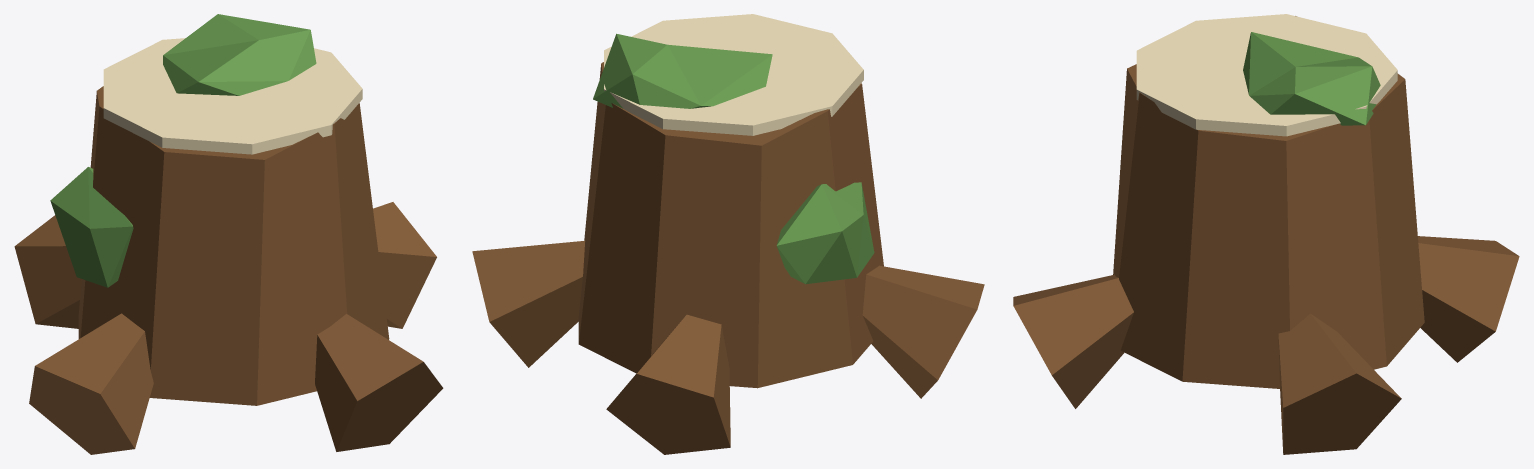
The model's file is sm_env_forest_mossy_stump.glb.
3 views of the same model, side by side, from view 1: azimuth 30°, elevation 25°; view 2: azimuth 150°, elevation 25°; view 3: azimuth 270°, elevation 25° (orthographic).
Parts seen in each view (by area): view 1: Stump, StumpTop, StumpRoot.002, StumpRoot.003, StumpMoss, StumpMoss.001, StumpRoot.001, StumpRoot; view 2: Stump, StumpTop, StumpRoot.001, StumpRoot.002, StumpRoot, StumpMoss, StumpMoss.001; view 3: Stump, StumpTop, StumpRoot, StumpRoot.003, StumpRoot.001, StumpMoss.
Boxes of the visible parts, left/top/right/bottom form: Stump: left=78, top=86, right=389, bottom=405; StumpTop: left=103, top=38, right=362, bottom=154; StumpRoot.002: left=29, top=313, right=153, bottom=454; StumpRoot.003: left=315, top=314, right=443, bottom=451; StumpMoss: left=163, top=14, right=316, bottom=95; StumpMoss.001: left=50, top=167, right=133, bottom=287; StumpRoot.001: left=14, top=215, right=81, bottom=328; StumpRoot: left=373, top=202, right=436, bottom=328; Stump: left=578, top=62, right=883, bottom=388; StumpTop: left=604, top=14, right=863, bottom=135; StumpRoot.001: left=606, top=314, right=730, bottom=454; StumpRoot.002: left=862, top=265, right=984, bottom=398; StumpRoot: left=472, top=240, right=585, bottom=367; StumpMoss: left=593, top=33, right=772, bottom=108; StumpMoss.001: left=776, top=182, right=874, bottom=284; Stump: left=1113, top=16, right=1424, bottom=388; StumpTop: left=1136, top=14, right=1397, bottom=136; StumpRoot: left=1278, top=313, right=1401, bottom=454; StumpRoot.003: left=1013, top=274, right=1133, bottom=408; StumpRoot.001: left=1418, top=236, right=1519, bottom=362; StumpMoss: left=1243, top=32, right=1380, bottom=125.
Size of the model in its own units: 1.33 by 0.9621 by 1.32.
